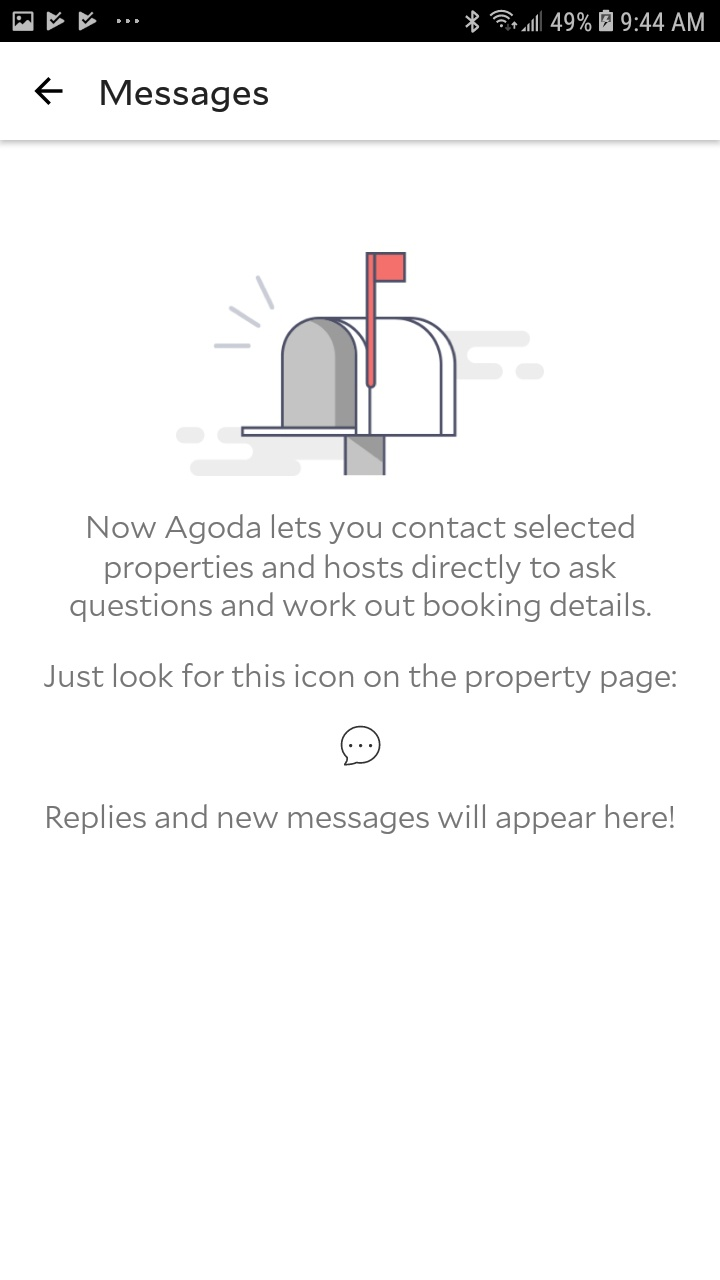Icon: (341, 725, 382, 767), (35, 77, 64, 106)
Image: (176, 252, 544, 477)
Text: (70, 514, 652, 623), (47, 803, 675, 835), (44, 663, 677, 694), (101, 80, 269, 113)
UpperTaskBar: (1, 1, 720, 43)
